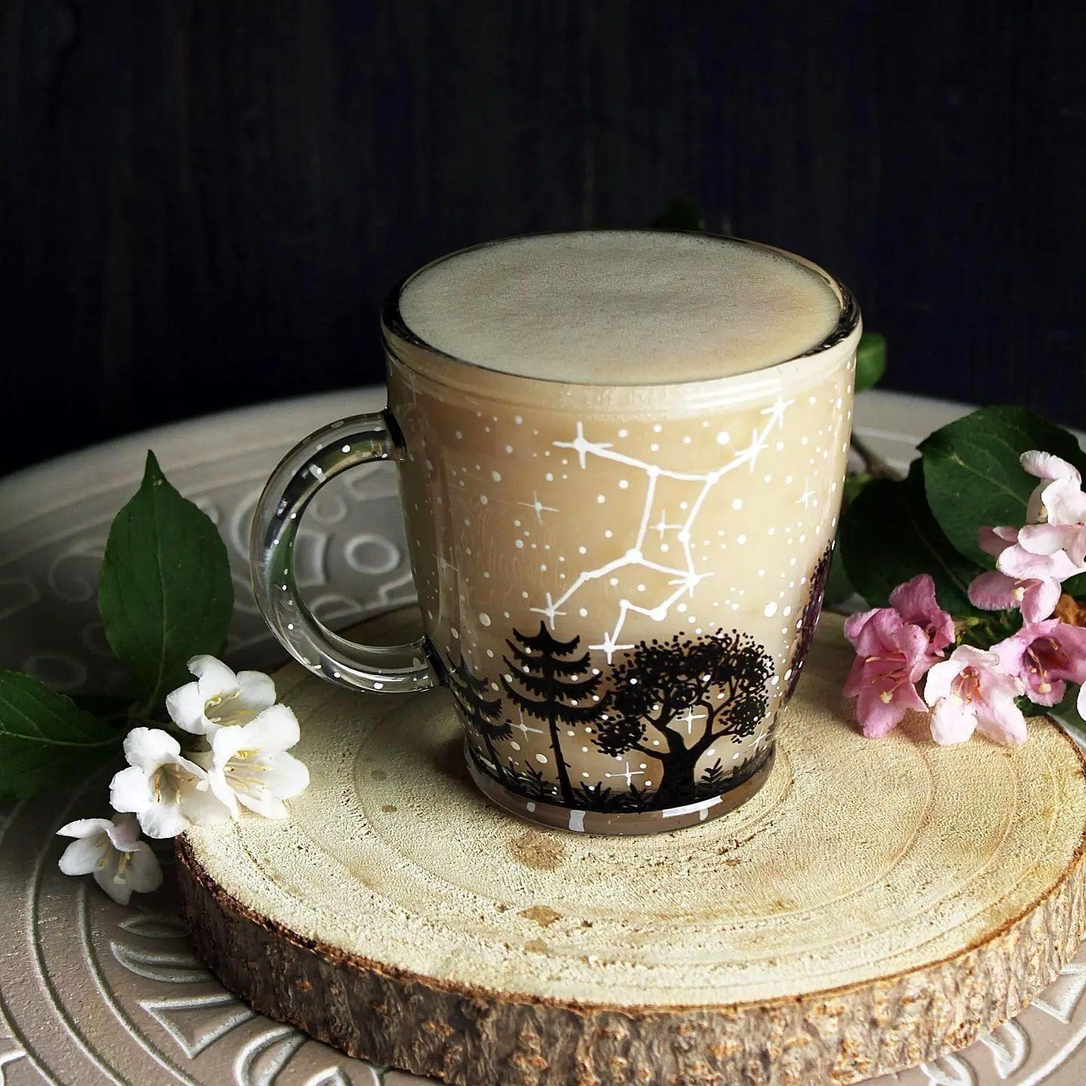glass-mug: (241, 200, 868, 832)
